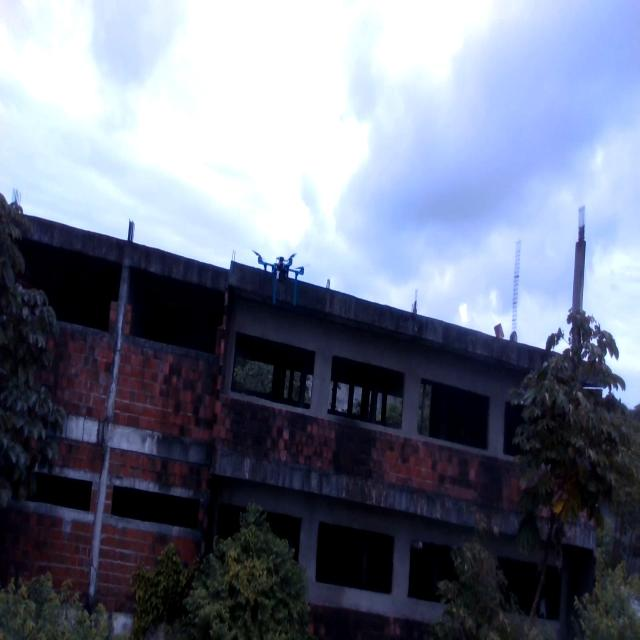-uav-: (250, 236, 313, 316)
